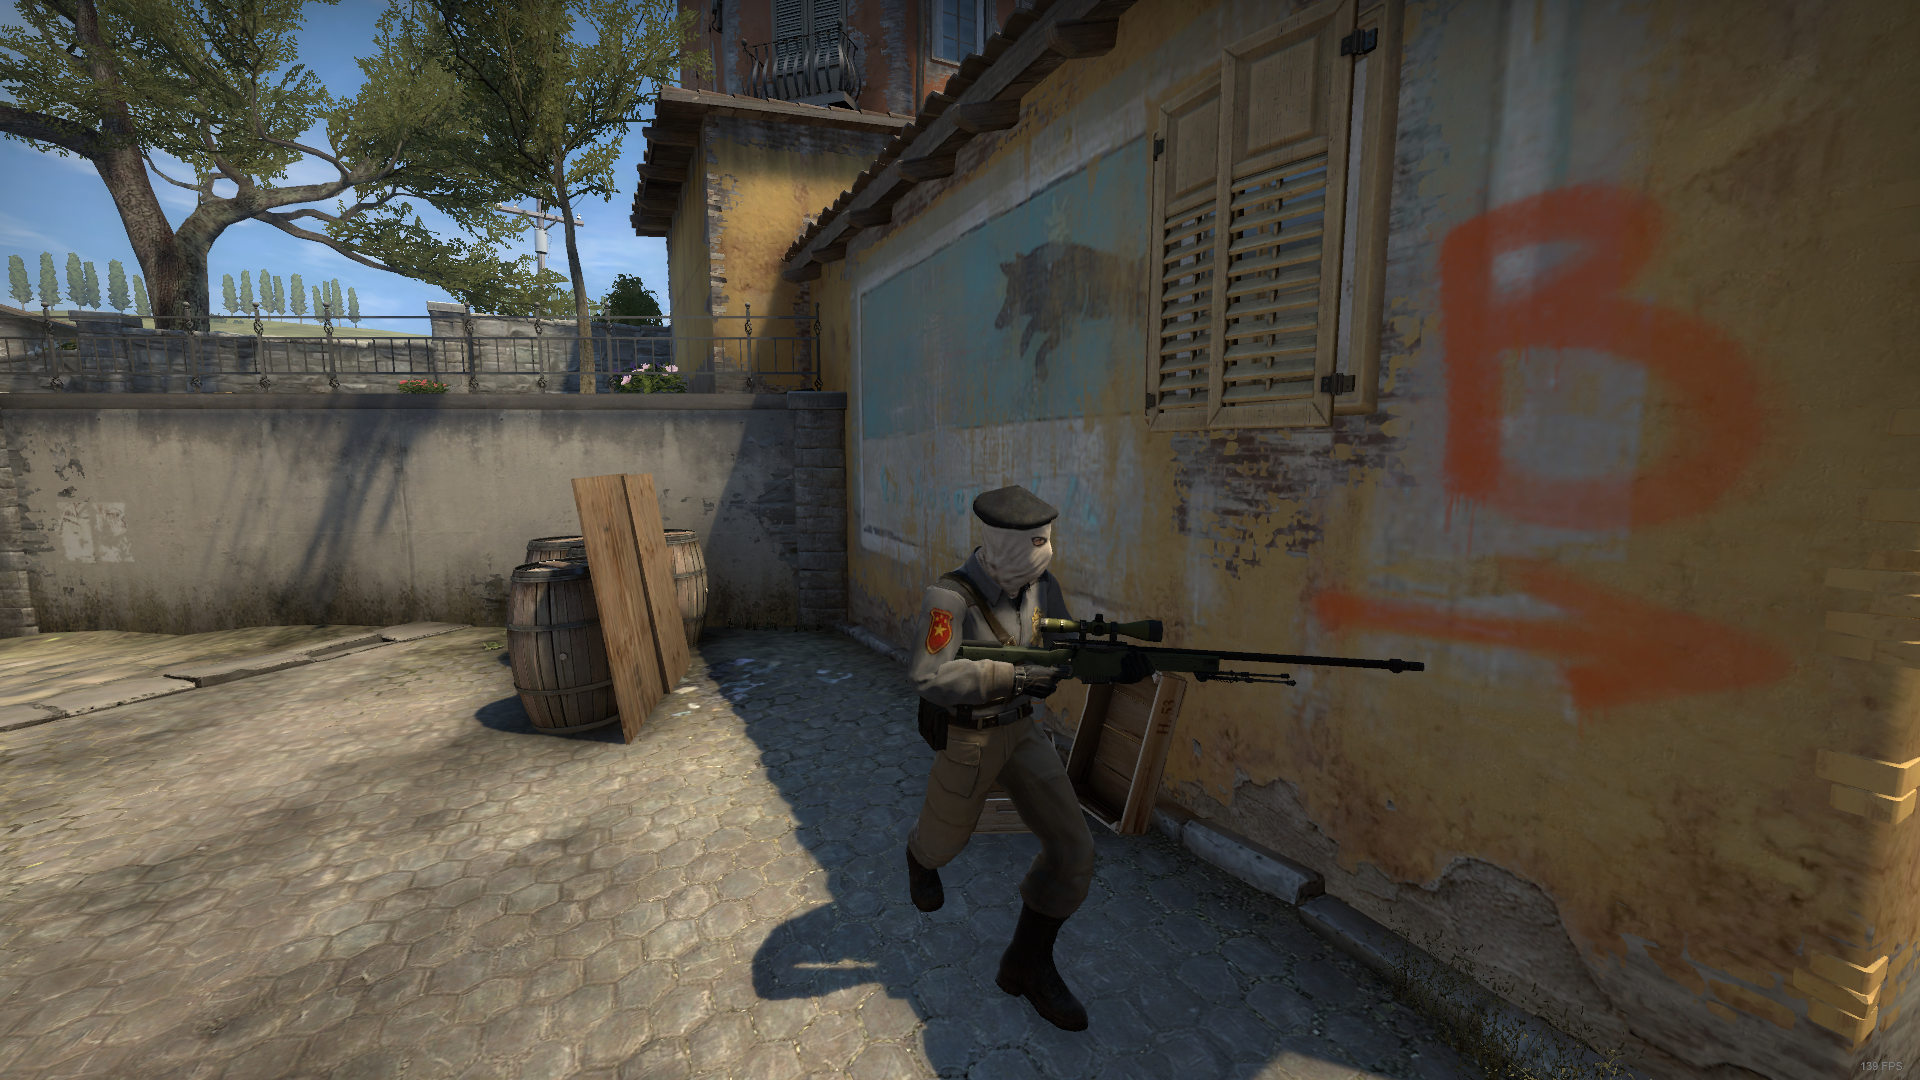ct: (893, 484, 1105, 1043)
